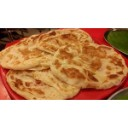parota: (56, 43, 126, 87), (9, 67, 80, 98), (1, 38, 55, 69)
